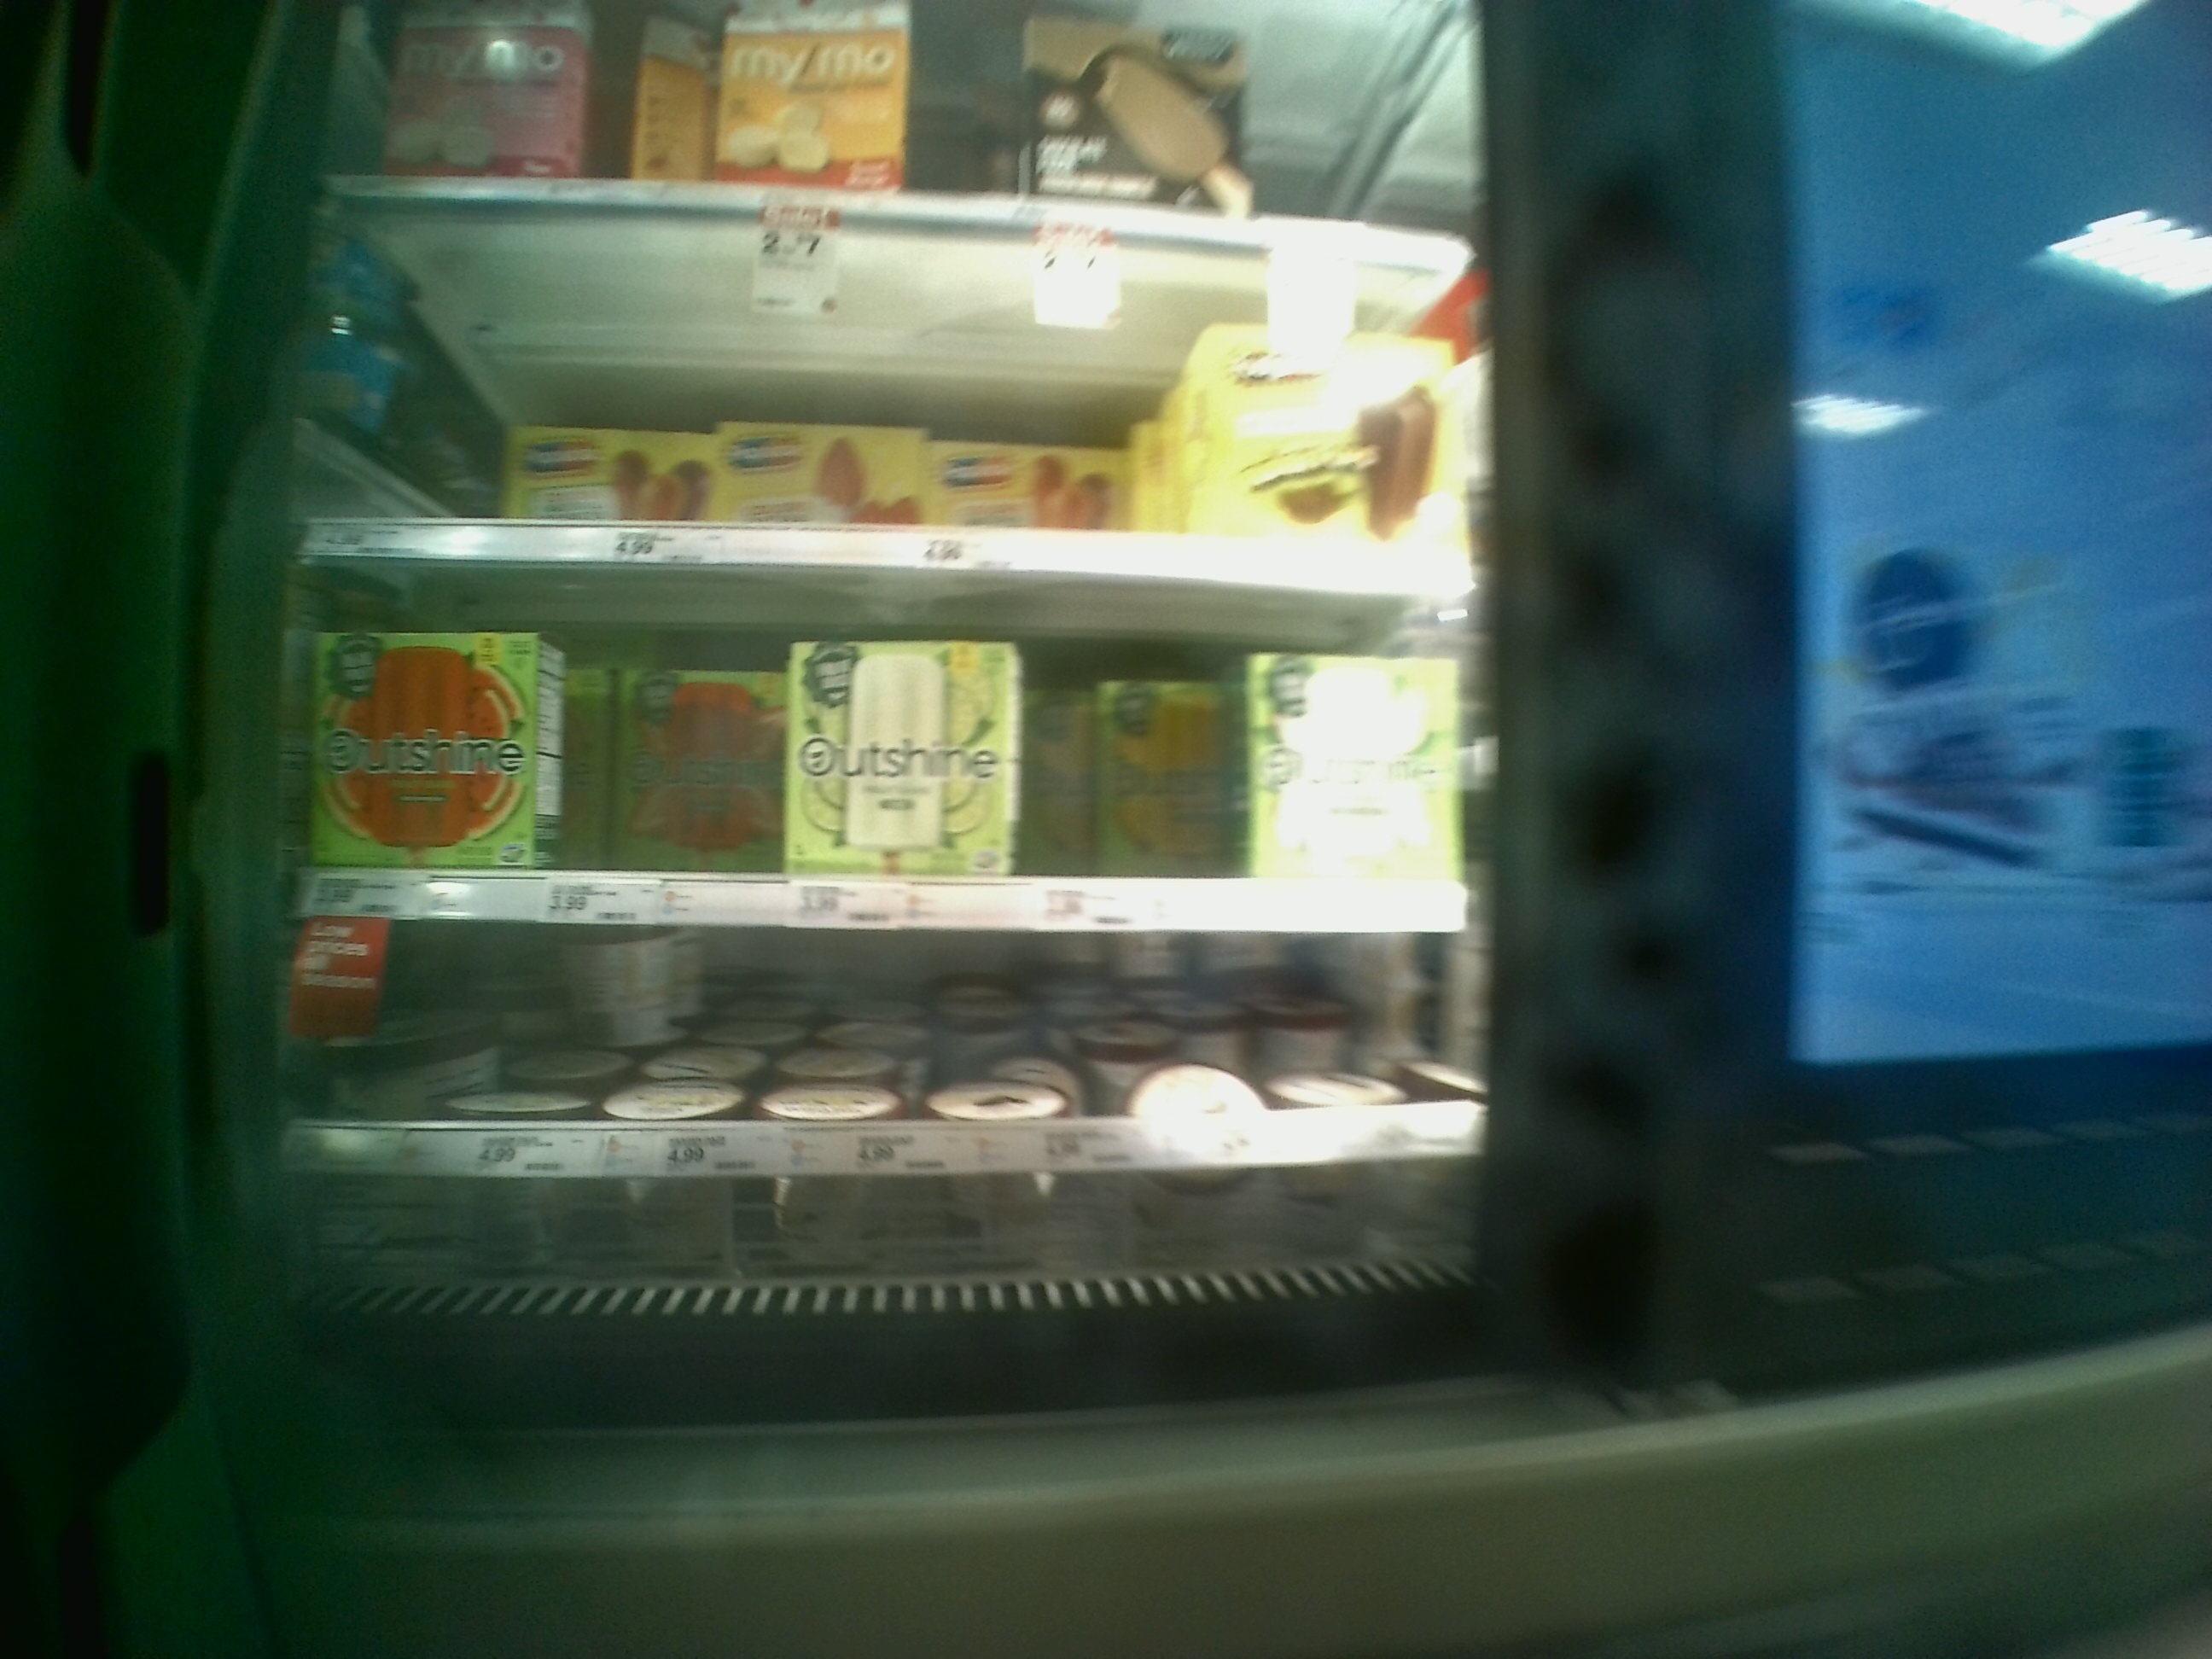shelf: (291, 176, 1479, 603), (301, 561, 1470, 929), (298, 927, 1498, 1229)
